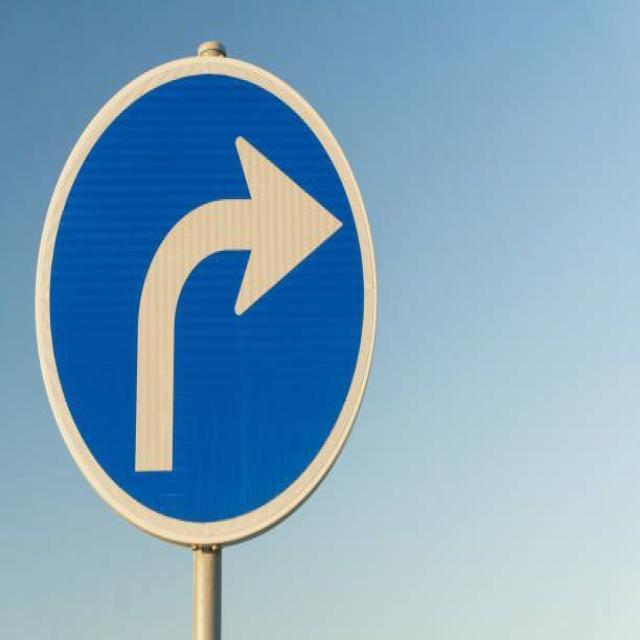compulsary turn right ahead: (28, 48, 386, 566)
